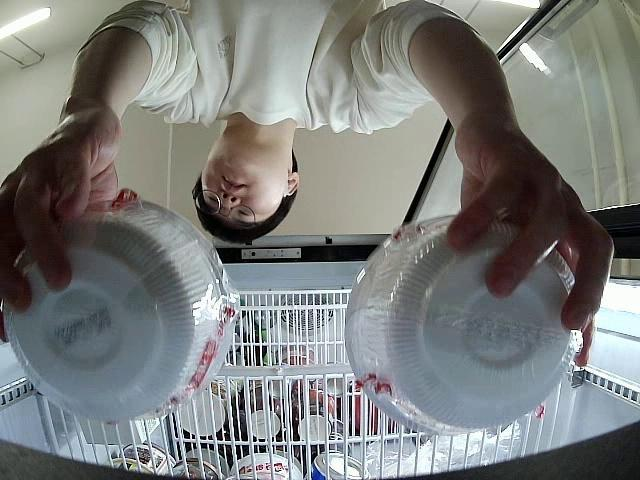09_yukGaeJang: (4, 195, 240, 423), (344, 215, 578, 435)
